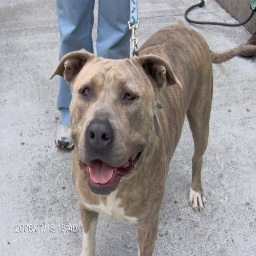dog: (51, 24, 214, 255)
